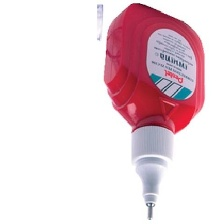correction_fluid: (100, 1, 210, 223)
